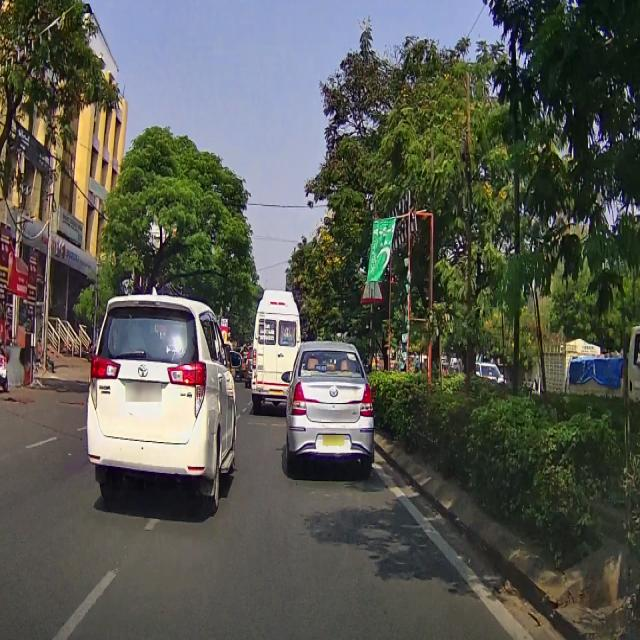car ahead at: (91, 292, 240, 499), (286, 344, 378, 477)
